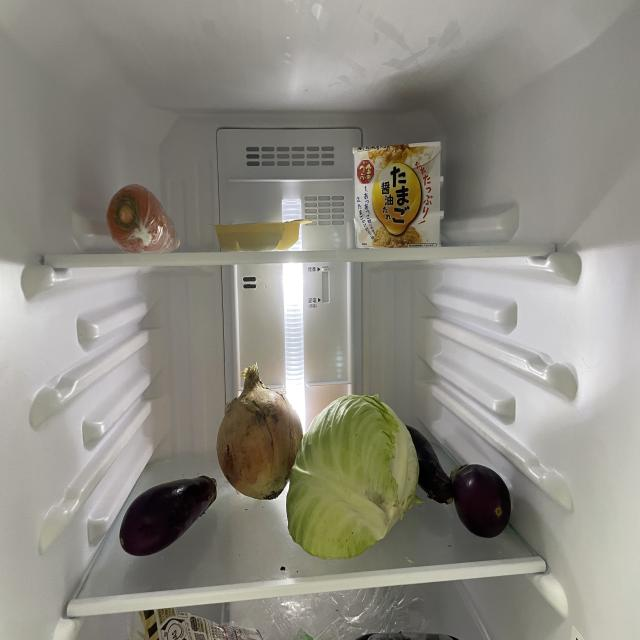cabbage: (285, 393, 419, 553)
carrot: (109, 184, 183, 254)
eggplant: (119, 475, 218, 560), (452, 461, 517, 542), (409, 429, 456, 510)
onion: (219, 366, 312, 501)
